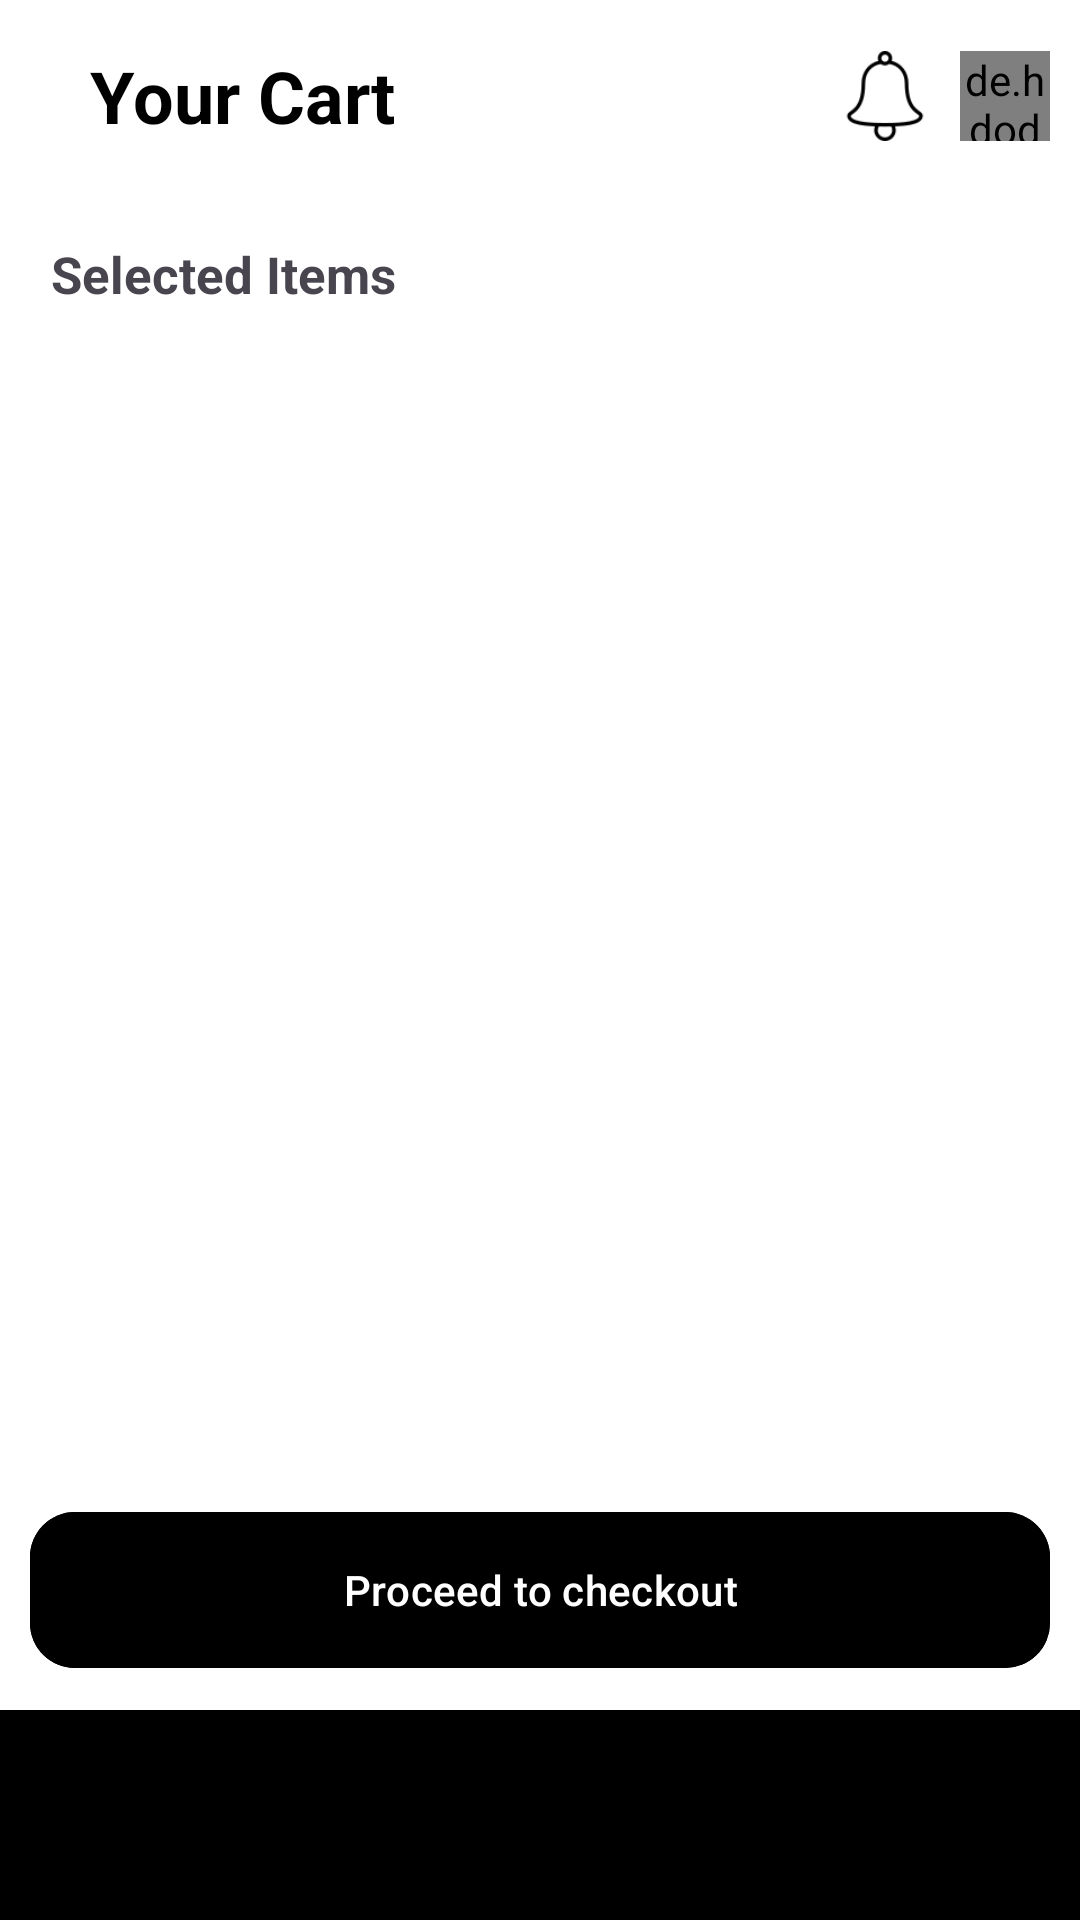

Icons on this 1080px×1920px Android screen, each with the point to tap as (x=x, y=y):
notification: (x=885, y=96)
